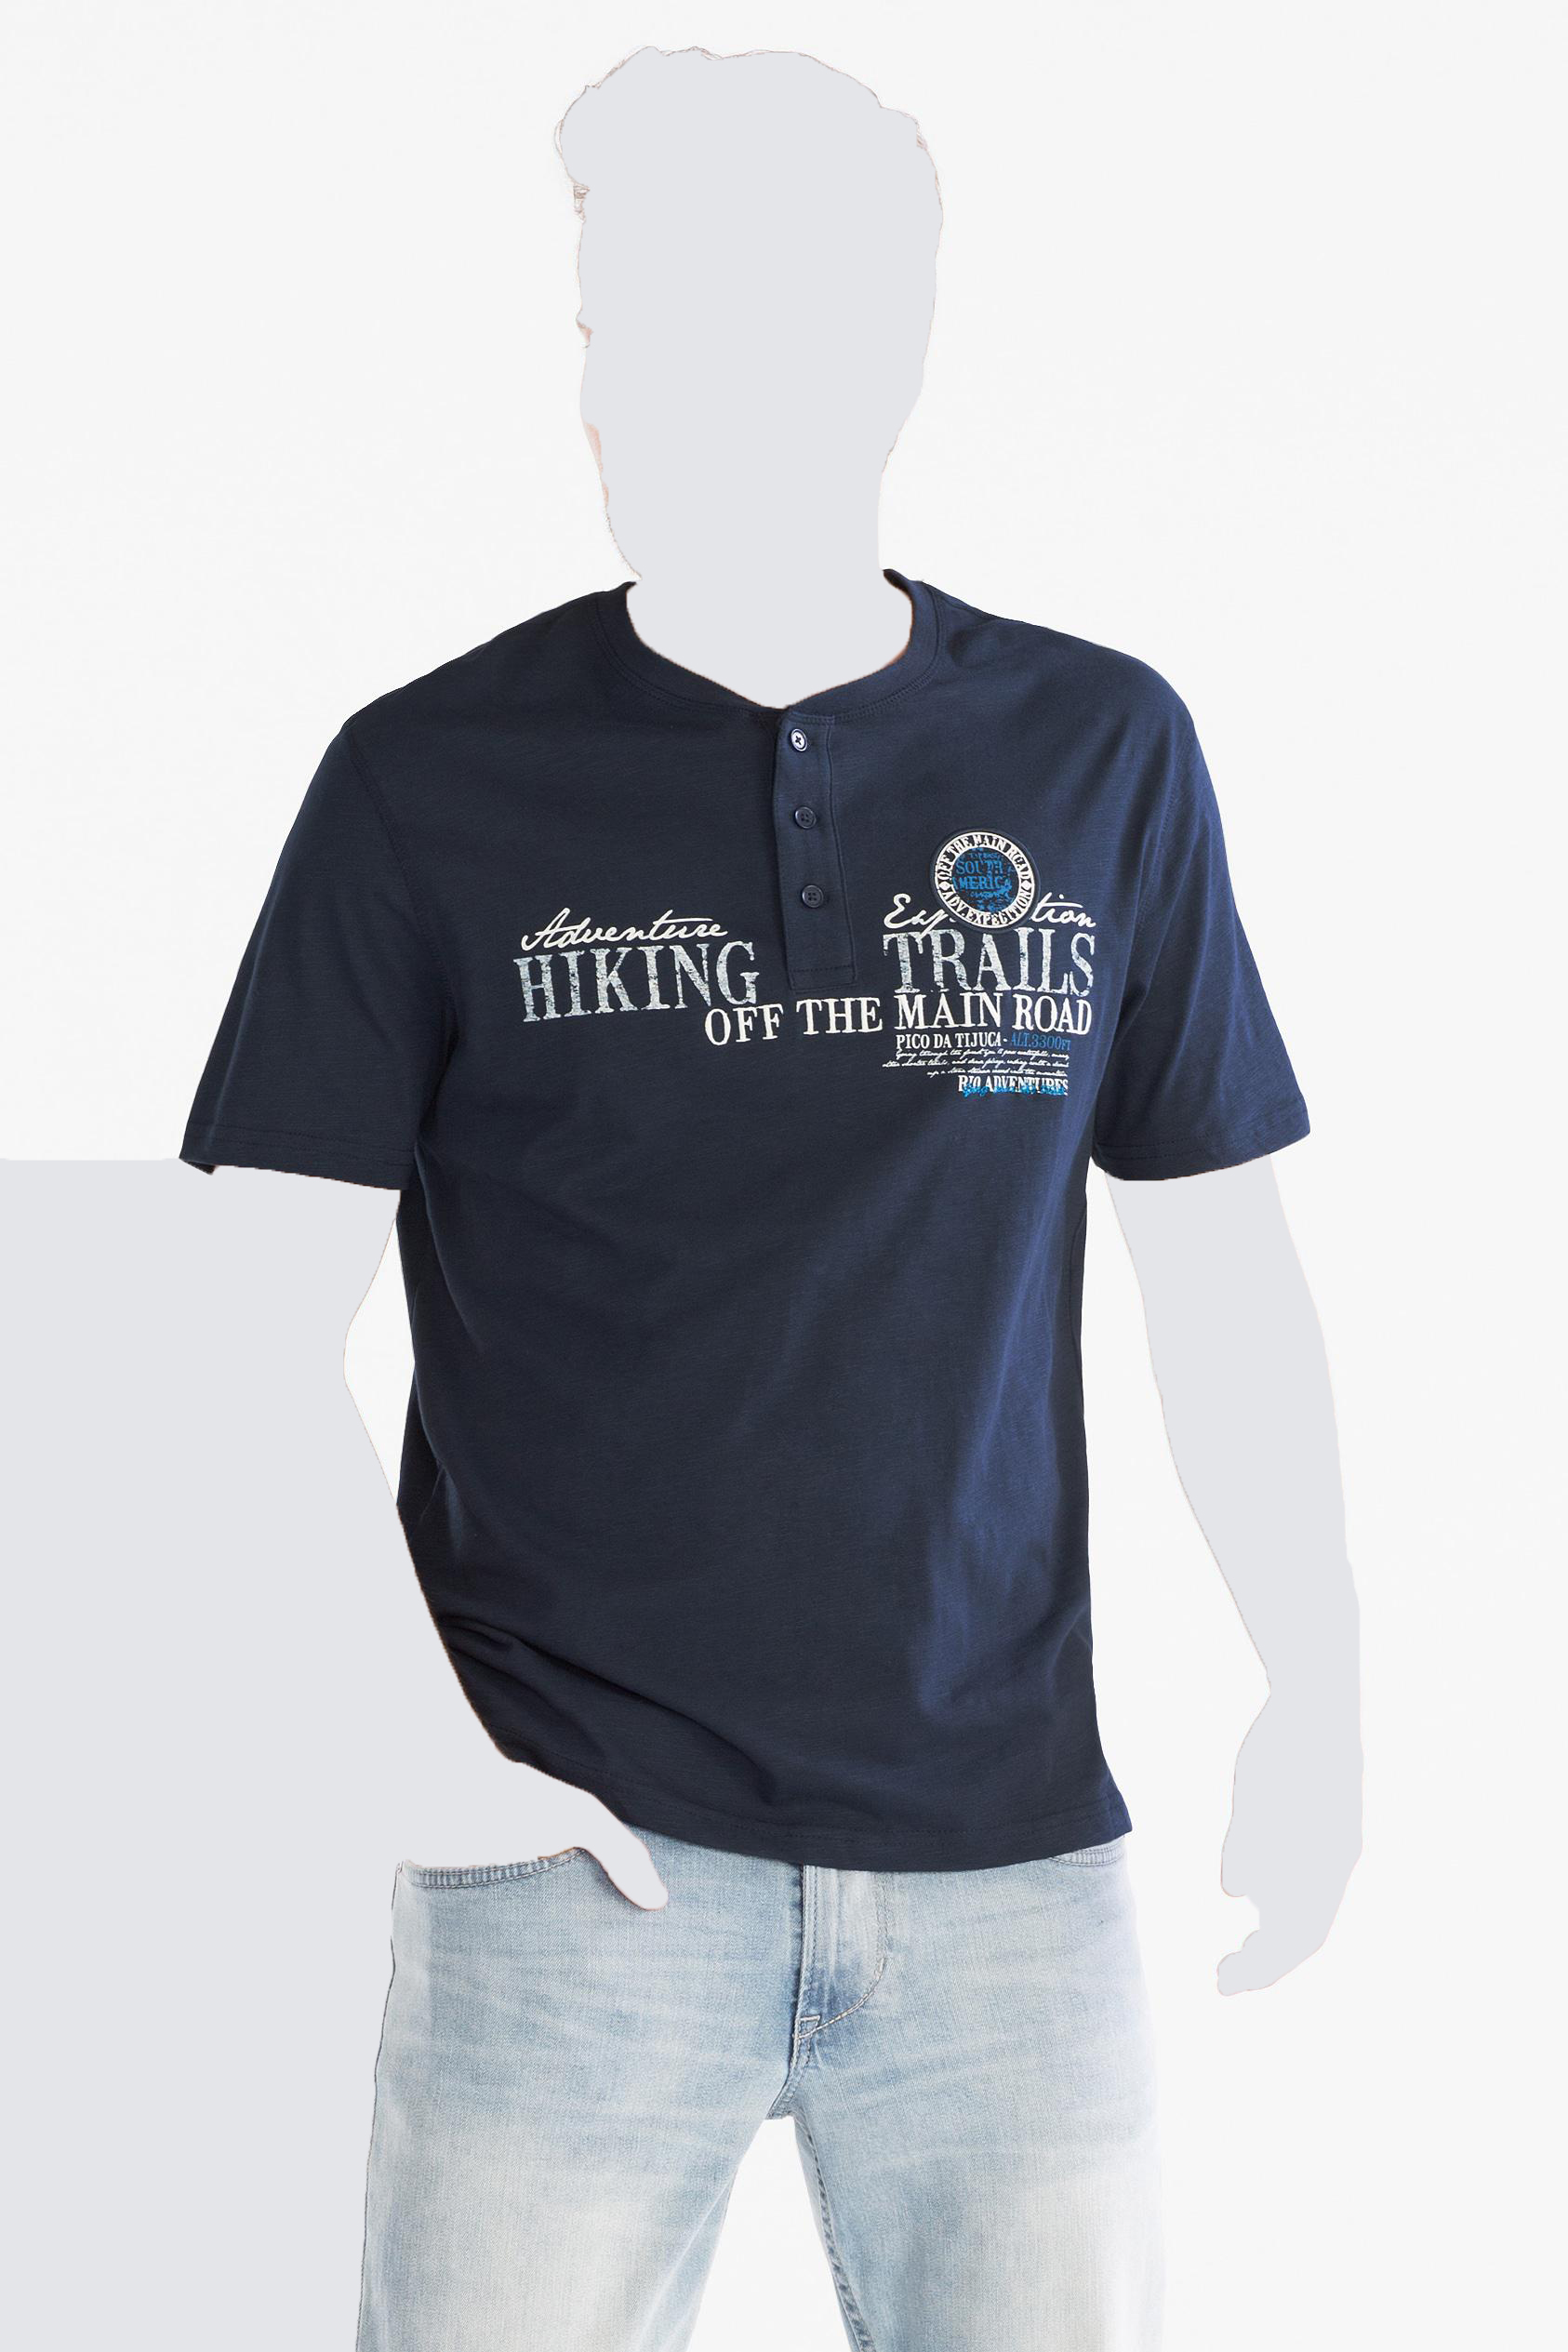teeshirt: (163, 556, 1325, 1872)
